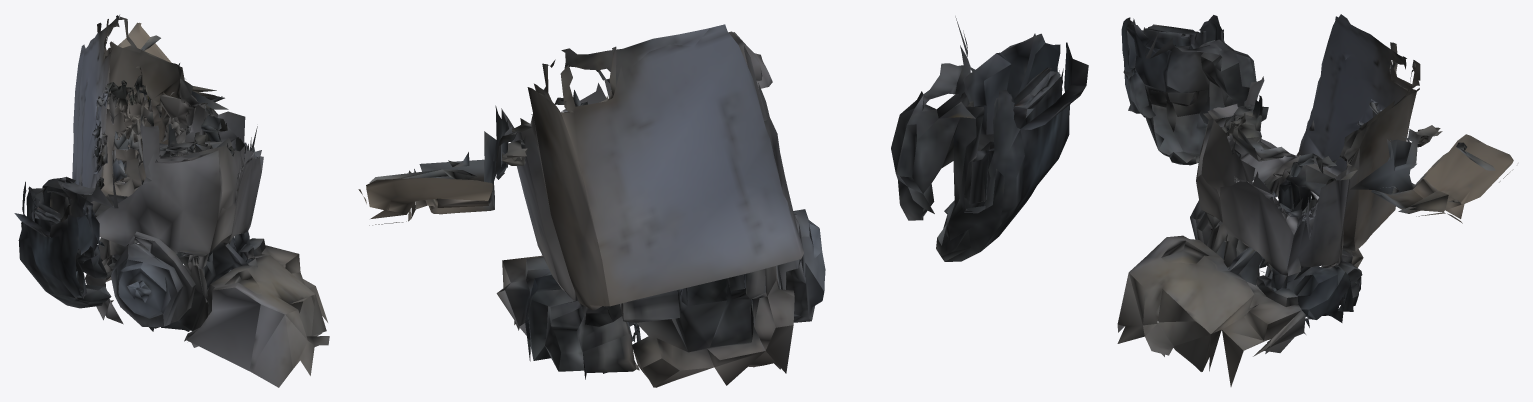
The model's file is tankblock_leg_left_001_upper.glb.
The picture shows the model from 3 angles, left to right: view 1: azimuth 30°, elevation 25°; view 2: azimuth 150°, elevation 25°; view 3: azimuth 270°, elevation 25°; orthographic projection. The views are drawn at different scales.
Visible parts, largest first — view 1: W_leg_right_upper; view 2: W_leg_right_upper; view 3: W_leg_right_upper.
Boxes of the visible parts, x1,y1,x2,y2 form: W_leg_right_upper: (14, 15, 329, 387); W_leg_right_upper: (358, 16, 1088, 387); W_leg_right_upper: (1117, 14, 1513, 386).
Bounding box in the file's own units: 1.69 × 1.4 × 1.81.
2 materials, 2 textured.
